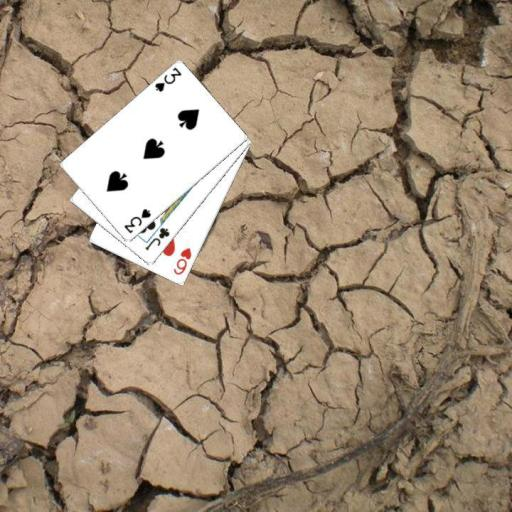3S: (121, 206, 152, 236), (151, 65, 183, 94)
6H: (170, 245, 193, 277)
JC: (142, 225, 172, 252)
